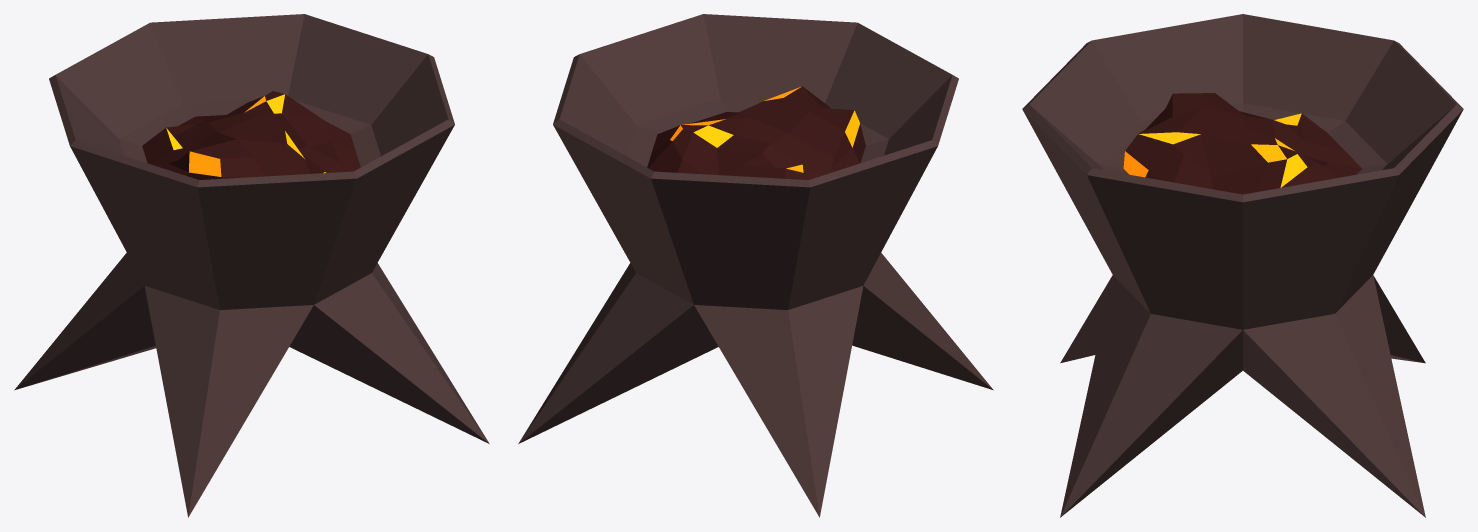
Rendered from FirePit.fbx.
3 renders of one model, left to right at view 1: azimuth 30°, elevation 25°; view 2: azimuth 150°, elevation 25°; view 3: azimuth 270°, elevation 25°, orthographic. The views are drawn at different scales.
Visible parts, largest first — view 1: Cube; view 2: Cube; view 3: Cube.
Part boxes in pixels (box(x1,y1,x2,y2)): Cube: box(14, 14, 489, 517); Cube: box(518, 14, 993, 517); Cube: box(1022, 14, 1463, 517).
Bounding box in the file's own units: 241 × 203 × 241.
